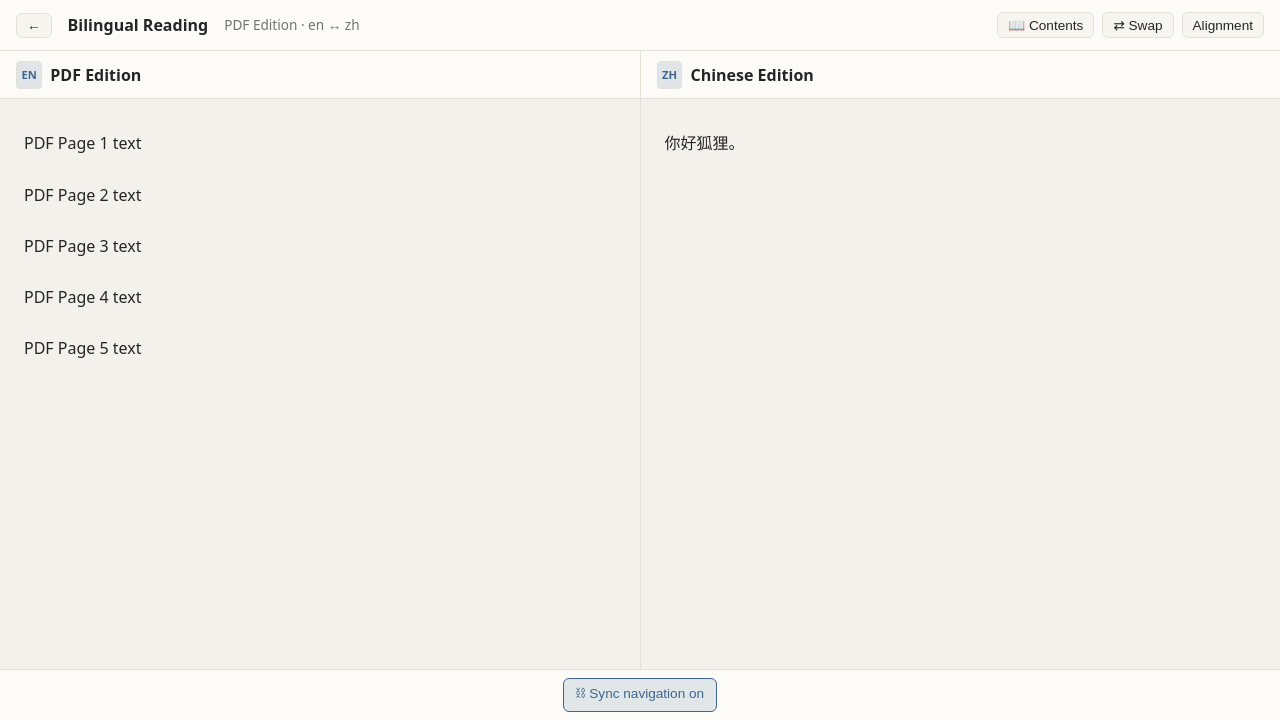
Test: BilingualReader › falls back to Page 1..N navigation when PDF document has no outline
The image size is (1280, 720).
Check: the text "PDF Page 1 text" is shown, box [24,132,142,359]
Click the button "📖 Contents".
click(1046, 25)  # box [997,12,1094,38]
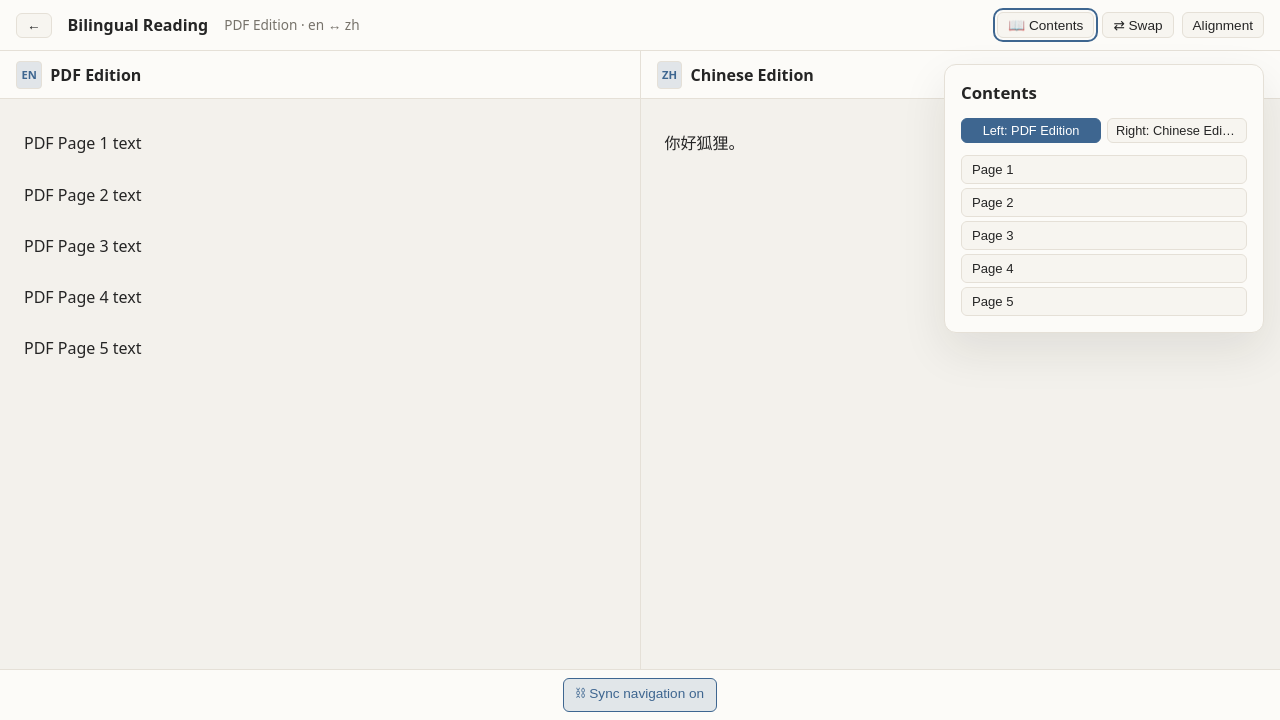
Check: the element named "Book Contents" is shown, box [944,64,1264,333]
Check: the button "Page 1" is shown, box [961,155,1247,184]
Check: the button "Page 5" is shown, box [961,287,1247,316]
